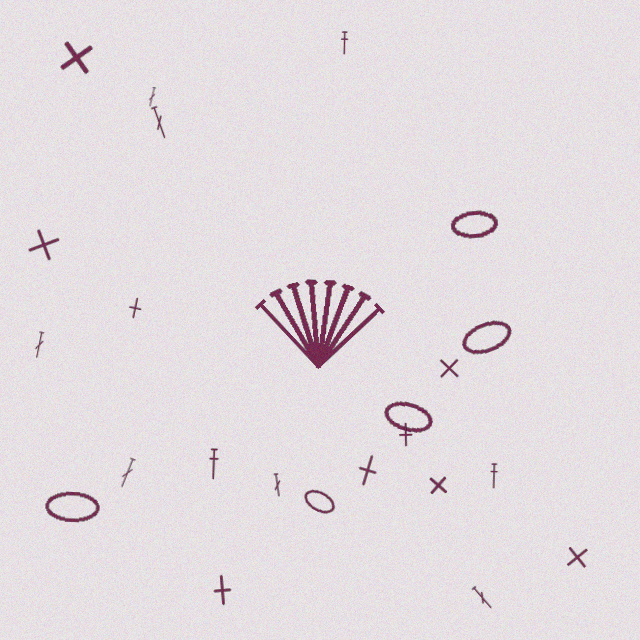chain: (457, 314, 516, 361), (380, 396, 436, 437), (44, 490, 101, 524), (449, 208, 500, 241), (300, 485, 339, 518)
double: (149, 105, 170, 140), (470, 584, 495, 611), (117, 457, 137, 489), (32, 331, 46, 359), (272, 473, 283, 497), (147, 87, 157, 107)
fan: (251, 268, 388, 372)
half_double: (207, 448, 220, 480), (489, 463, 499, 489), (340, 31, 349, 55)
single: (21, 222, 66, 267), (55, 36, 97, 78), (347, 450, 388, 491), (205, 573, 239, 607), (563, 543, 591, 571), (436, 355, 462, 381), (122, 295, 148, 321), (393, 422, 418, 447), (426, 473, 450, 497)
